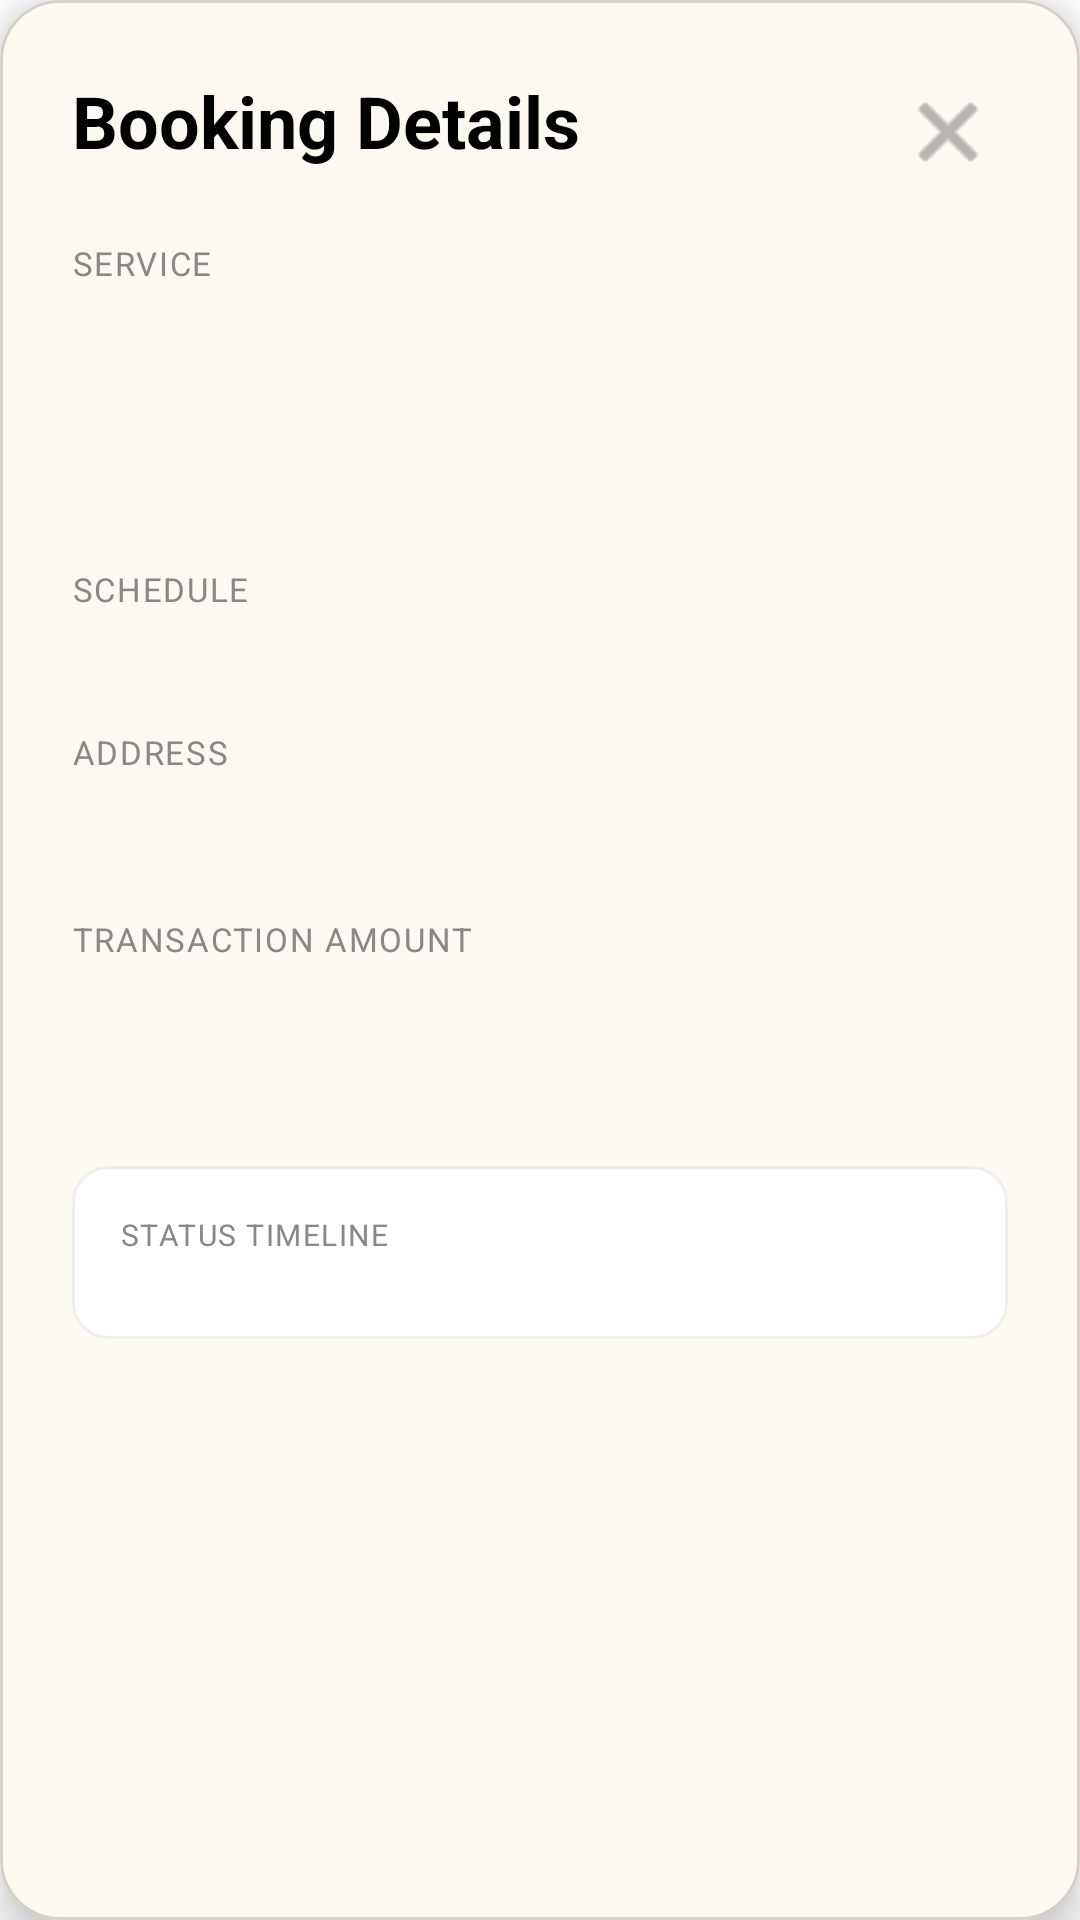

Icon click points for this 1080×1920 phone screenshot, format (x=x, y=y):
close clear cancel: (x=948, y=132)
